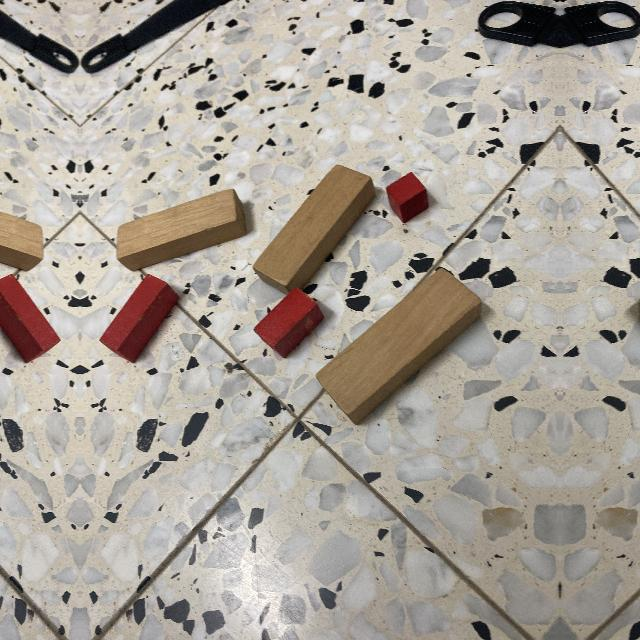jenga: (315, 266, 481, 426), (251, 164, 376, 296), (117, 188, 248, 272), (0, 212, 43, 272)
red block: (98, 274, 180, 363), (0, 274, 62, 363), (253, 288, 325, 358)
red cube: (387, 172, 429, 224)
